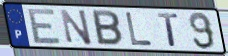9: (188, 11, 216, 51)
B: (91, 9, 125, 48)
E: (27, 8, 64, 45)
L: (124, 11, 155, 47)
N: (59, 8, 94, 47)
T: (156, 12, 180, 48)
